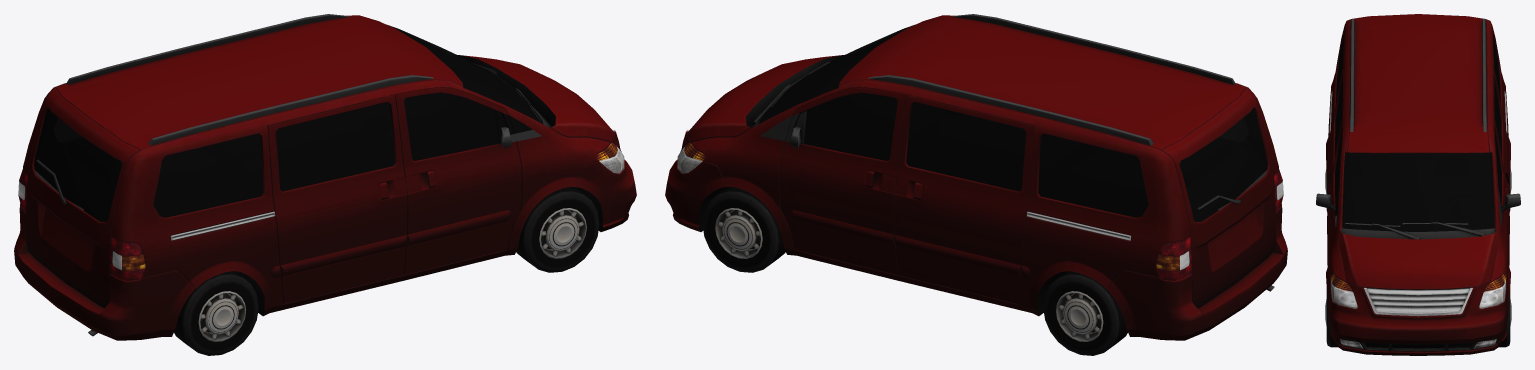
The model's file is minivan.glb.
The picture shows the model from 3 angles, left to right: view 1: azimuth 30°, elevation 25°; view 2: azimuth 150°, elevation 25°; view 3: azimuth 270°, elevation 25°; orthographic projection. The views are drawn at different scales.
Parts seen in each view (by area): view 1: body, wheel (×2); view 2: body, wheel (×2); view 3: body, wheel (×2).
Boxes of the visible parts, x1,y1,x2,y2 form: body: (14, 14, 636, 340); wheel (×2): (174, 186, 599, 355); body: (665, 14, 1287, 340); wheel (×2): (702, 186, 1127, 355); body: (1316, 14, 1520, 355); wheel (×2): (1325, 289, 1511, 347).
Size of the model in its own units: 4.61 by 1.76 by 1.87.
4 materials, 3 textured.
